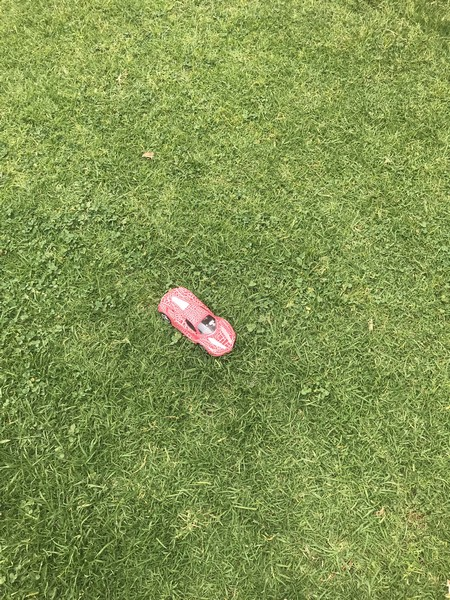RC: (157, 284, 238, 361)
